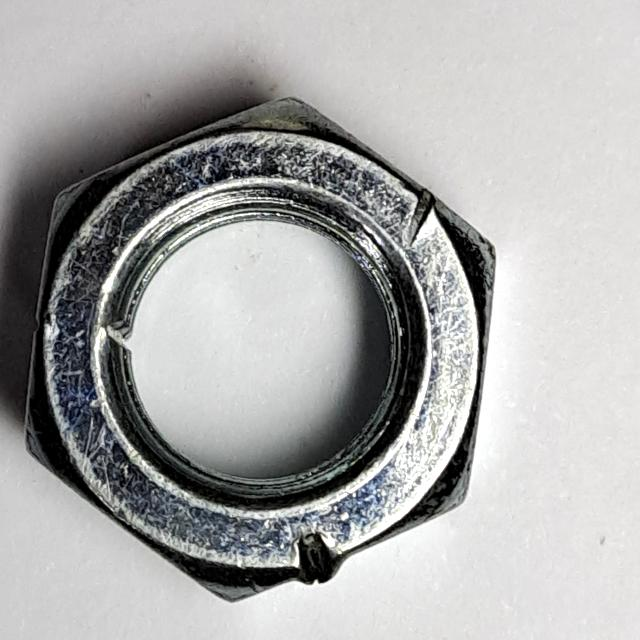Scratches: (17, 89, 506, 623)
